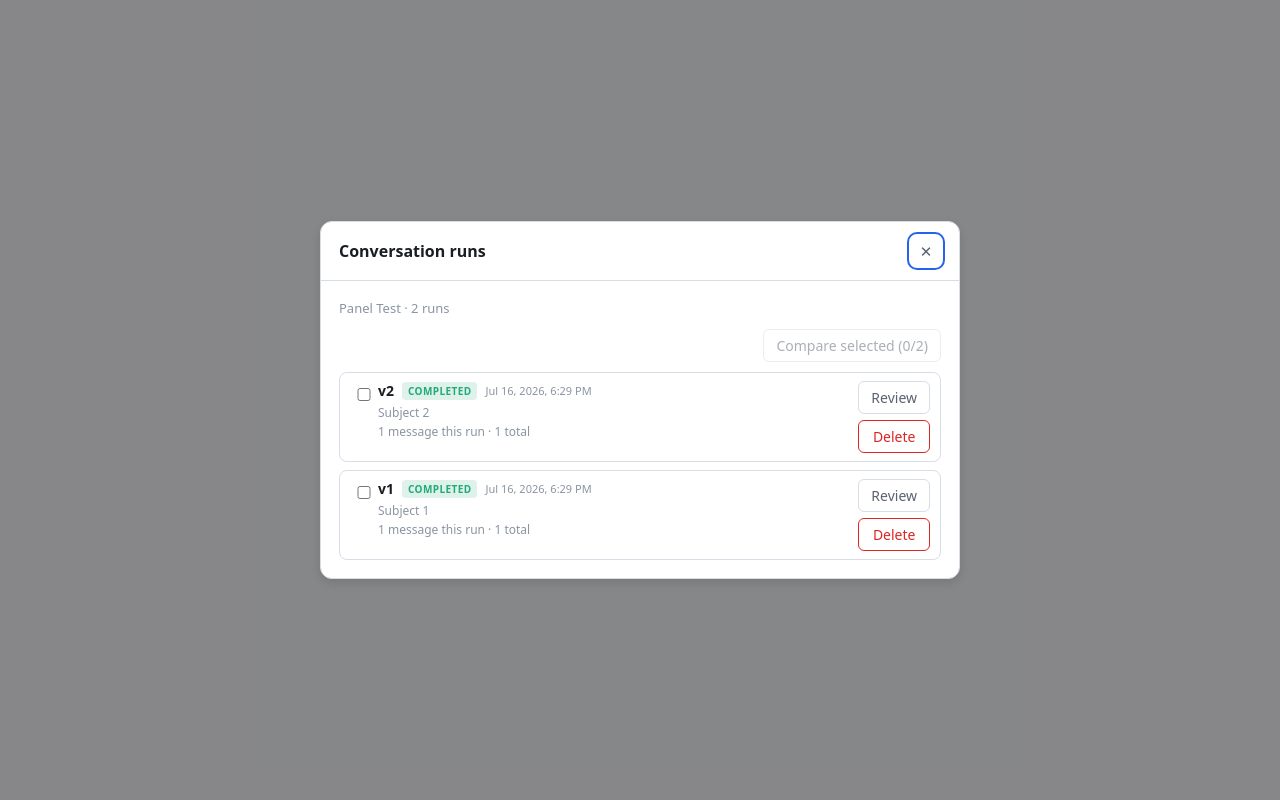
it: ConversationRunsPanel › lists runs and opens review
Expected: the text "v2" is shown, [378, 381, 394, 400]
Expected: the text "v1" is shown, [378, 479, 394, 498]
Click the button "Review" in the row of "Subject 2" at (894, 398), box [858, 381, 930, 414]
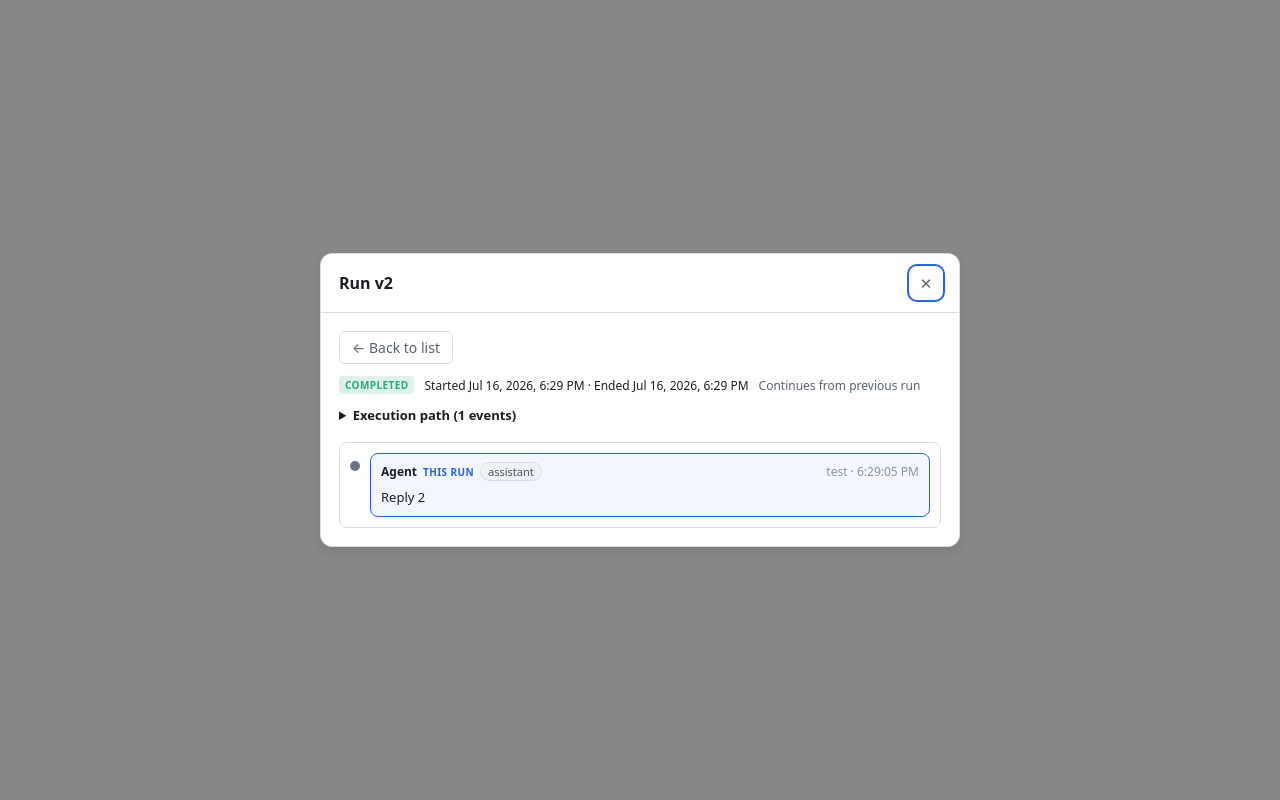
Result: the text "Reply 2" is shown at [381, 488, 425, 506]
Result: the heading "Execution path (1 events)" is shown at [353, 406, 516, 424]
